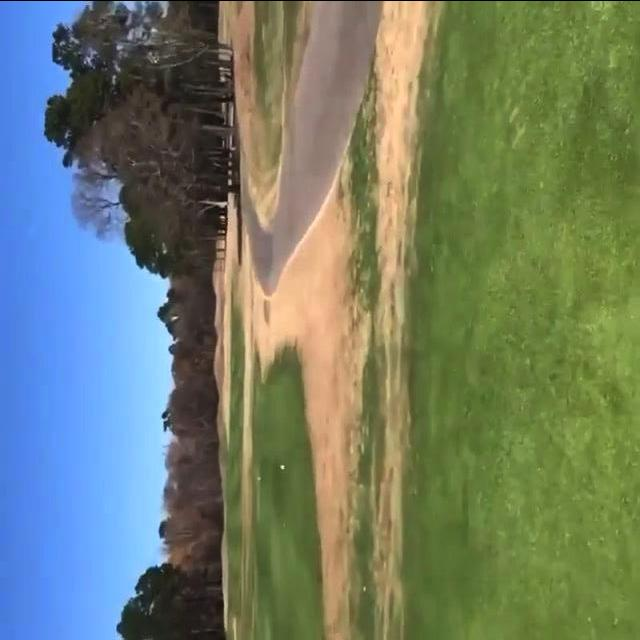GolfBall: (281, 464, 285, 469)
